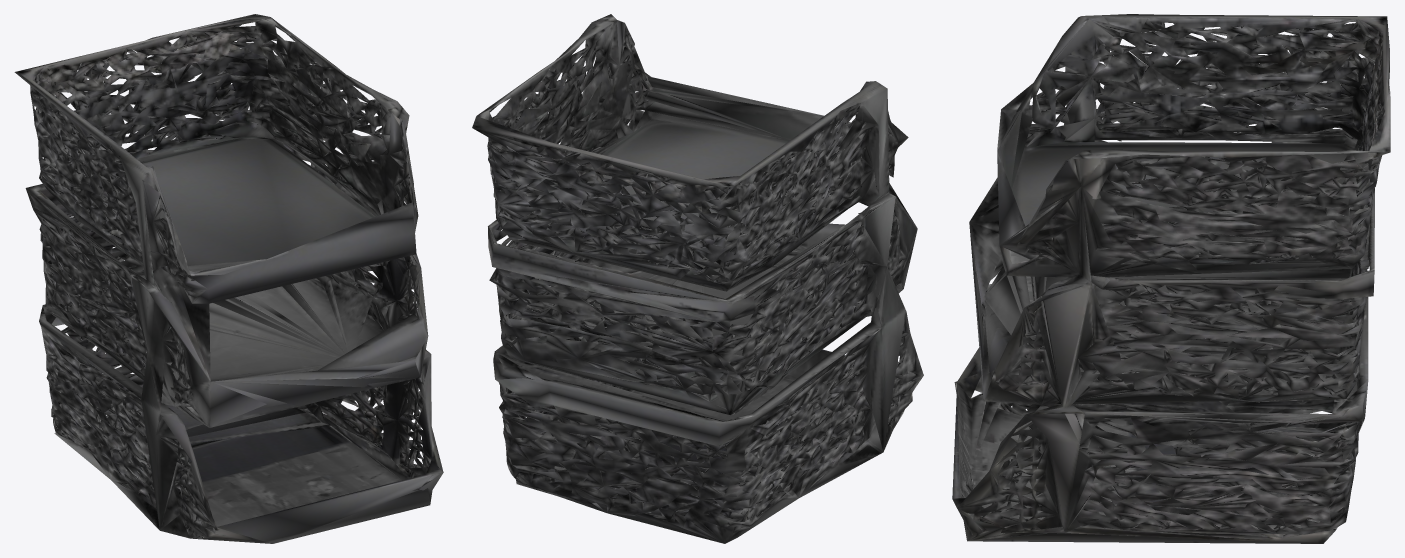
Rendered from Stacked_Organizer_Tra_0421155933_texture.glb.
3 renders of one model, left to right at view 1: azimuth 30°, elevation 25°; view 2: azimuth 150°, elevation 25°; view 3: azimuth 270°, elevation 25°, orthographic. The views are drawn at different scales.
Bounding box in the file's own units: 1.58 × 2 × 1.98.
1 material, 1 textured.
